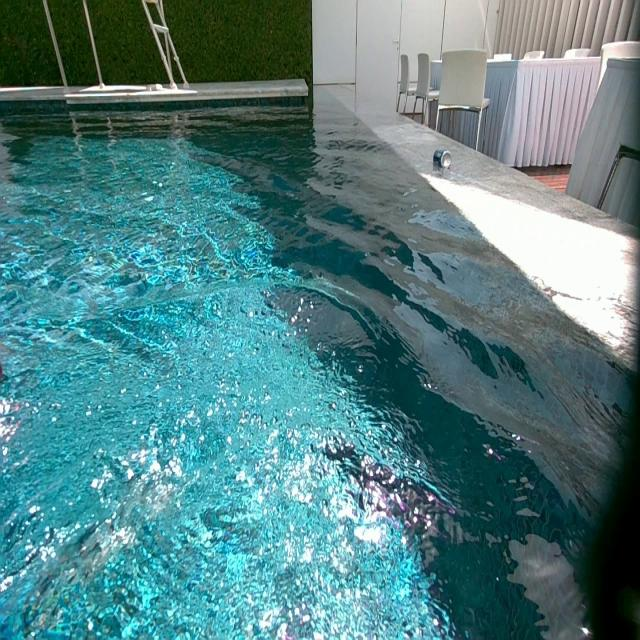Cans: (432, 146, 452, 170)
